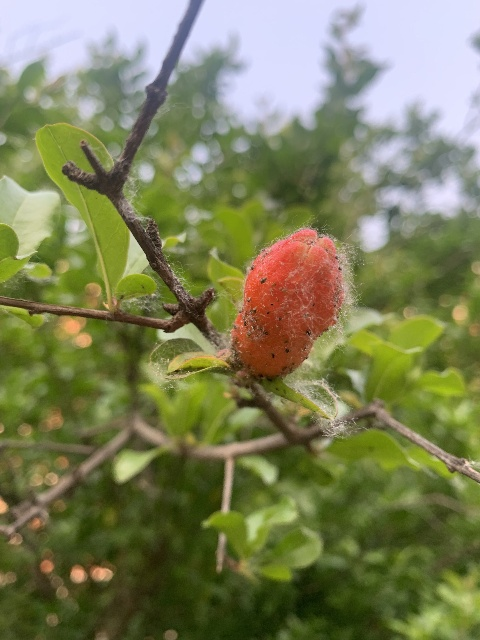bud: (232, 228, 343, 378)
